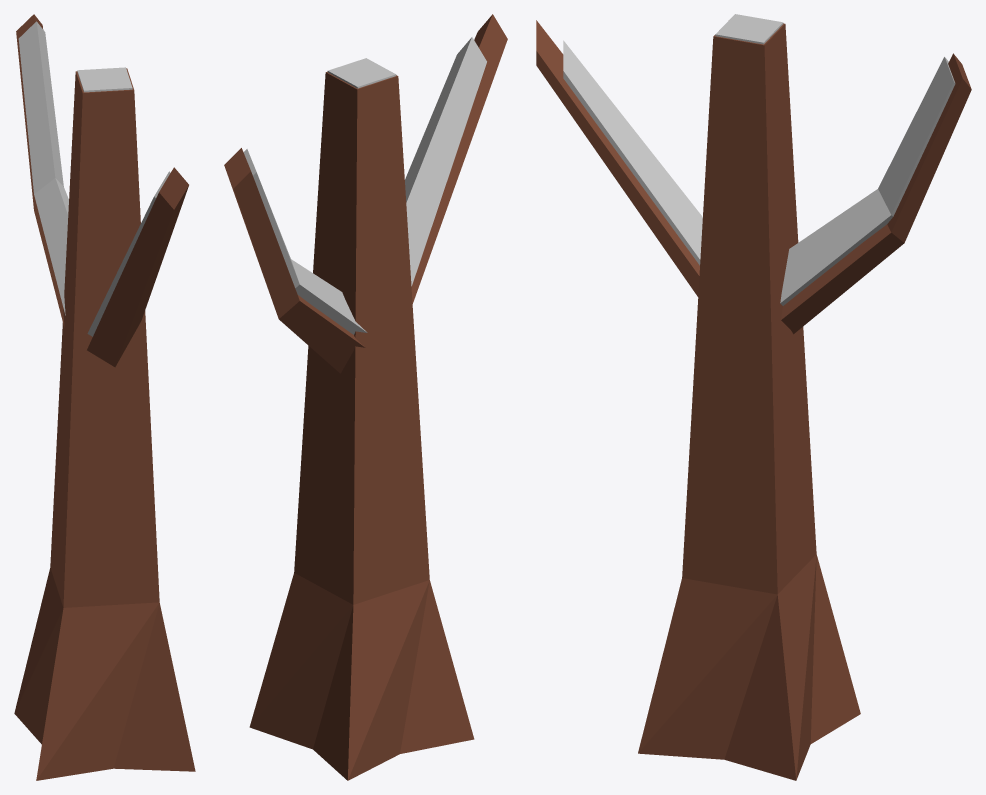
Rendered from Tree_37_winter_vc.fbx.
3 renders of one model, left to right at view 1: azimuth 30°, elevation 25°; view 2: azimuth 150°, elevation 25°; view 3: azimuth 270°, elevation 25°, orthographic. The views are drawn at different scales.
Visible parts, largest first — view 1: Tree_37_winter_vc; view 2: Tree_37_winter_vc; view 3: Tree_37_winter_vc.
Part boxes in pixels (<box>): Tree_37_winter_vc: <box>14,14,195,780</box>; Tree_37_winter_vc: <box>224,14,507,780</box>; Tree_37_winter_vc: <box>536,14,971,780</box>.
Bounding box in the file's own units: 46.09 × 161 × 89.99.
